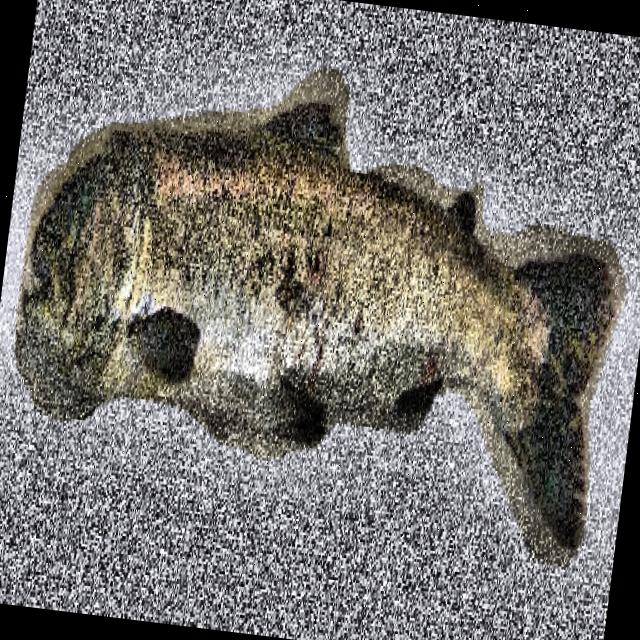mild_red: (411, 345, 445, 400), (306, 247, 327, 295), (308, 346, 321, 381), (402, 398, 417, 407), (353, 317, 361, 332)
